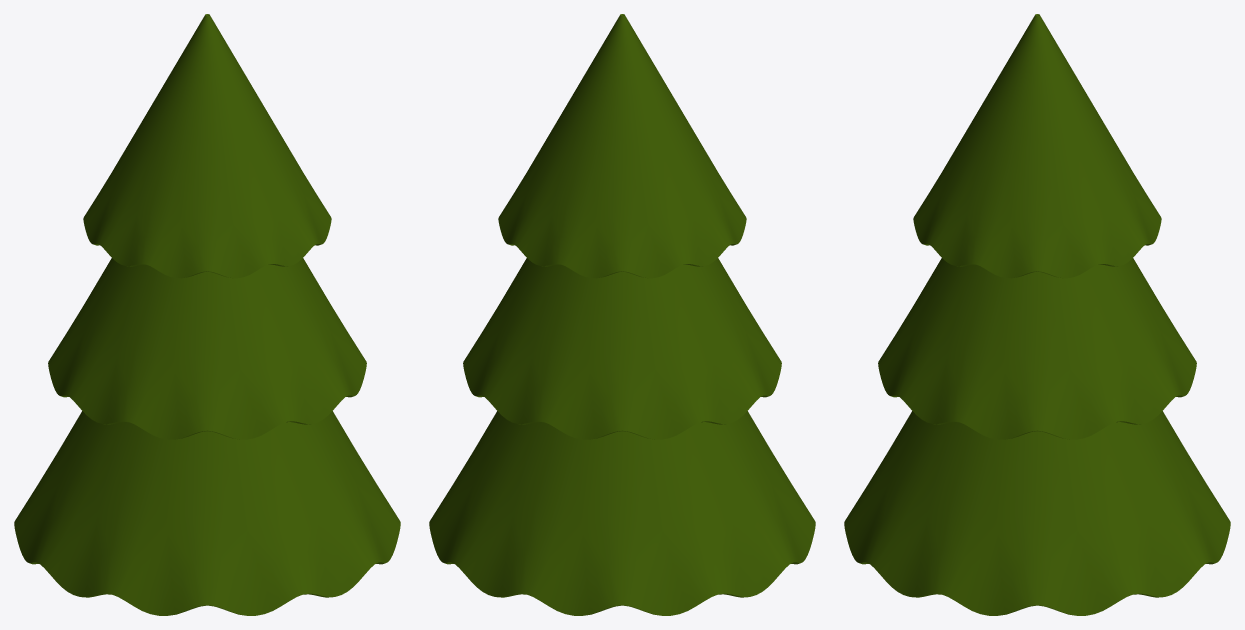
File: l_choinka_1.fbx
3 renders of one model, left to right at view 1: azimuth 30°, elevation 25°; view 2: azimuth 150°, elevation 25°; view 3: azimuth 270°, elevation 25°, orthographic.
Parts seen in each view (by area): view 1: roslinka.003, roslinka.001, roslinka.002; view 2: roslinka.003, roslinka.001, roslinka.002; view 3: roslinka.003, roslinka.001, roslinka.002.
Part boxes in pixels (bbox=[...]): roslinka.003: bbox=[14, 411, 400, 615]; roslinka.001: bbox=[48, 258, 366, 439]; roslinka.002: bbox=[83, 14, 331, 278]; roslinka.003: bbox=[429, 411, 815, 615]; roslinka.001: bbox=[463, 258, 781, 439]; roslinka.002: bbox=[498, 14, 746, 278]; roslinka.003: bbox=[844, 411, 1230, 615]; roslinka.001: bbox=[878, 258, 1196, 439]; roslinka.002: bbox=[913, 14, 1161, 278].
Bounding box in the file's own units: 7.08 × 7.08 × 11.59.
